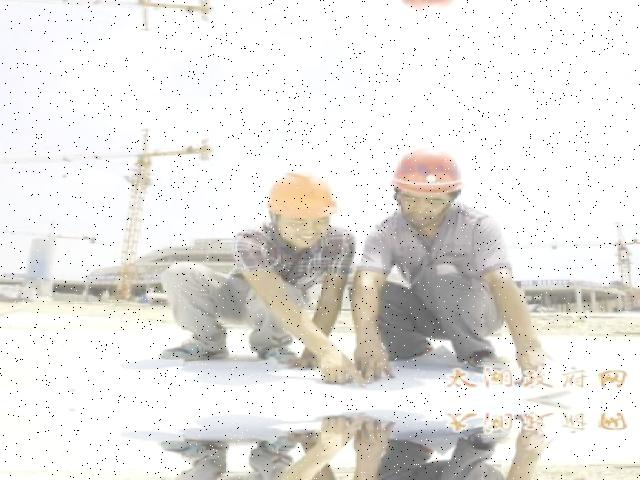Helmet: (384, 142, 467, 202), (261, 165, 342, 226)
